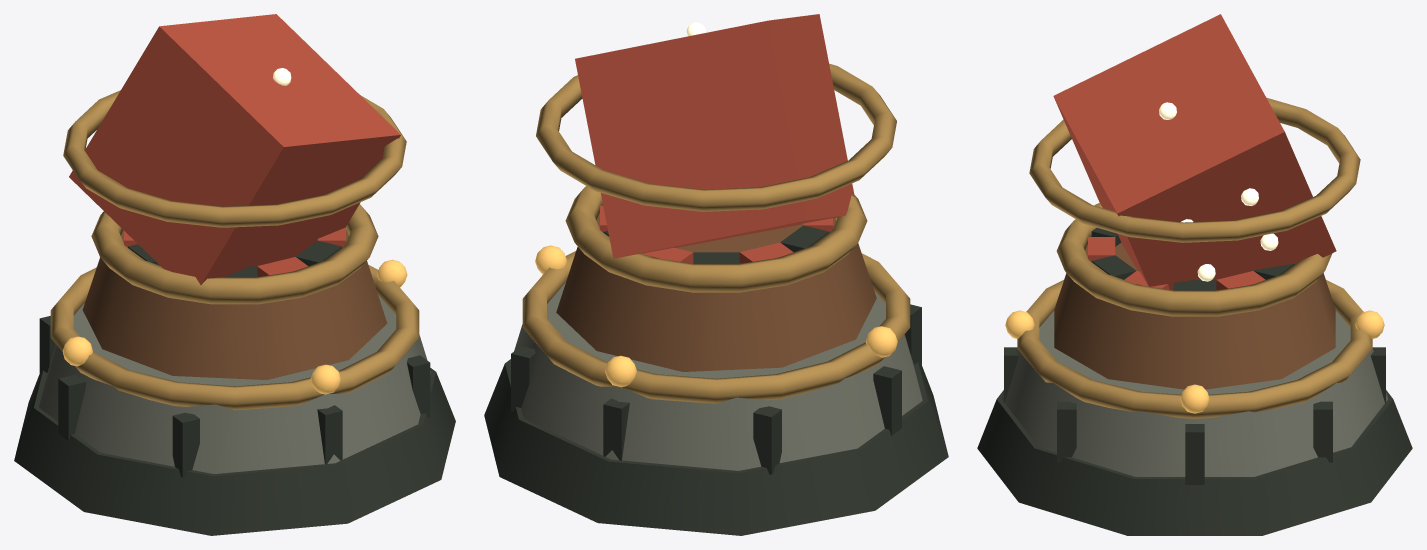
The model's file is tower_gamble_gambleFate.glb.
The picture shows the model from 3 angles, left to right: view 1: azimuth 30°, elevation 25°; view 2: azimuth 150°, elevation 25°; view 3: azimuth 270°, elevation 25°; orthographic projection. The views are drawn at different scales.
Parts seen in each view (by area): view 1: die_29, foot_0, stone_1, table_15, rim_2, fate_ring_35, roulette_rim_16, mortar_6, mortar_7, mortar_5, mortar_4, mortar_8 (+5 smaller); view 2: die_29, foot_0, stone_1, table_15, rim_2, fate_ring_35, roulette_rim_16, mortar_8, mortar_7, mortar_9, mortar_10, rivet_14 (+6 smaller); view 3: die_29, foot_0, stone_1, table_15, fate_ring_35, rim_2, roulette_rim_16, mortar_3, mortar_4, mortar_10, rivet_11, pocket_22 (+6 smaller).
Boxes of the visible parts, bbox=[...] form: die_29: bbox=[69, 14, 400, 297]; foot_0: bbox=[14, 368, 455, 535]; stone_1: bbox=[39, 295, 430, 473]; table_15: bbox=[82, 229, 387, 379]; rim_2: bbox=[50, 265, 419, 410]; fate_ring_35: bbox=[63, 90, 406, 227]; roulette_rim_16: bbox=[91, 204, 378, 304]; mortar_6: bbox=[172, 412, 199, 477]; mortar_7: bbox=[58, 374, 85, 440]; mortar_5: bbox=[317, 405, 342, 464]; mortar_4: bbox=[407, 355, 430, 417]; mortar_8: bbox=[39, 316, 55, 374]; die_29: bbox=[575, 14, 854, 258]; foot_0: bbox=[484, 359, 948, 535]; stone_1: bbox=[510, 282, 922, 470]; table_15: bbox=[556, 213, 876, 371]; rim_2: bbox=[522, 251, 910, 403]; fate_ring_35: bbox=[536, 63, 896, 211]; roulette_rim_16: bbox=[565, 186, 867, 292]; mortar_8: bbox=[753, 406, 781, 474]; mortar_7: bbox=[873, 366, 901, 435]; mortar_9: bbox=[603, 398, 629, 460]; mortar_10: bbox=[511, 346, 535, 411]; rivet_14: bbox=[605, 355, 636, 387]; die_29: bbox=[1053, 14, 1336, 290]; foot_0: bbox=[977, 390, 1412, 535]; stone_1: bbox=[1001, 311, 1388, 476]; table_15: bbox=[1054, 243, 1335, 389]; fate_ring_35: bbox=[1029, 97, 1360, 242]; rim_2: bbox=[1017, 280, 1372, 418]; roulette_rim_16: bbox=[1056, 203, 1332, 316]; mortar_3: bbox=[1185, 424, 1204, 484]; mortar_4: bbox=[1057, 401, 1076, 462]; mortar_10: bbox=[1313, 401, 1332, 462]; rivet_11: bbox=[1180, 384, 1209, 413]; pocket_22: bbox=[1091, 255, 1136, 279].
Bounding box in the file's own units: 0.5326 × 0.5747 × 0.56.
